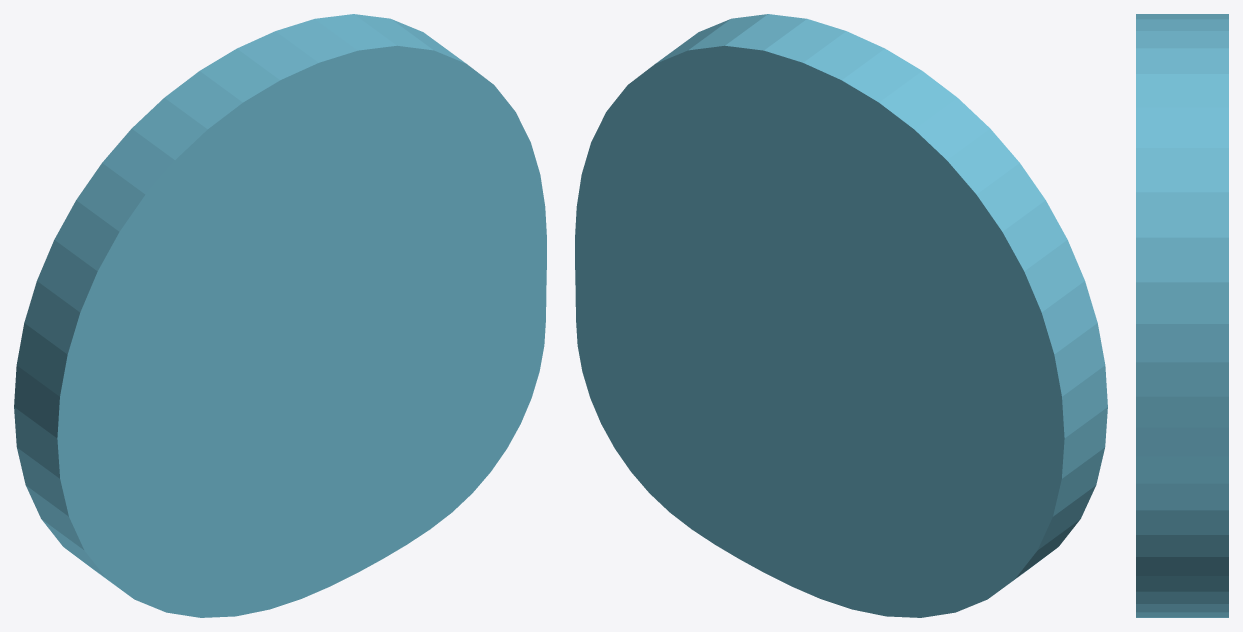
File: cam_profile_2d_demo.glb
The picture shows the model from 3 angles, left to right: view 1: azimuth 30°, elevation 25°; view 2: azimuth 150°, elevation 25°; view 3: azimuth 270°, elevation 25°; orthographic projection. The views are drawn at different scales.
Visible parts, largest first — view 1: cam_profile; view 2: cam_profile; view 3: cam_profile.
Part boxes in pixels (x1,y1,x2,y2): cam_profile: [14, 14, 546, 617]; cam_profile: [575, 14, 1107, 617]; cam_profile: [1136, 14, 1228, 617].
Bounding box in the file's own units: 26.05 × 27.33 × 4.
